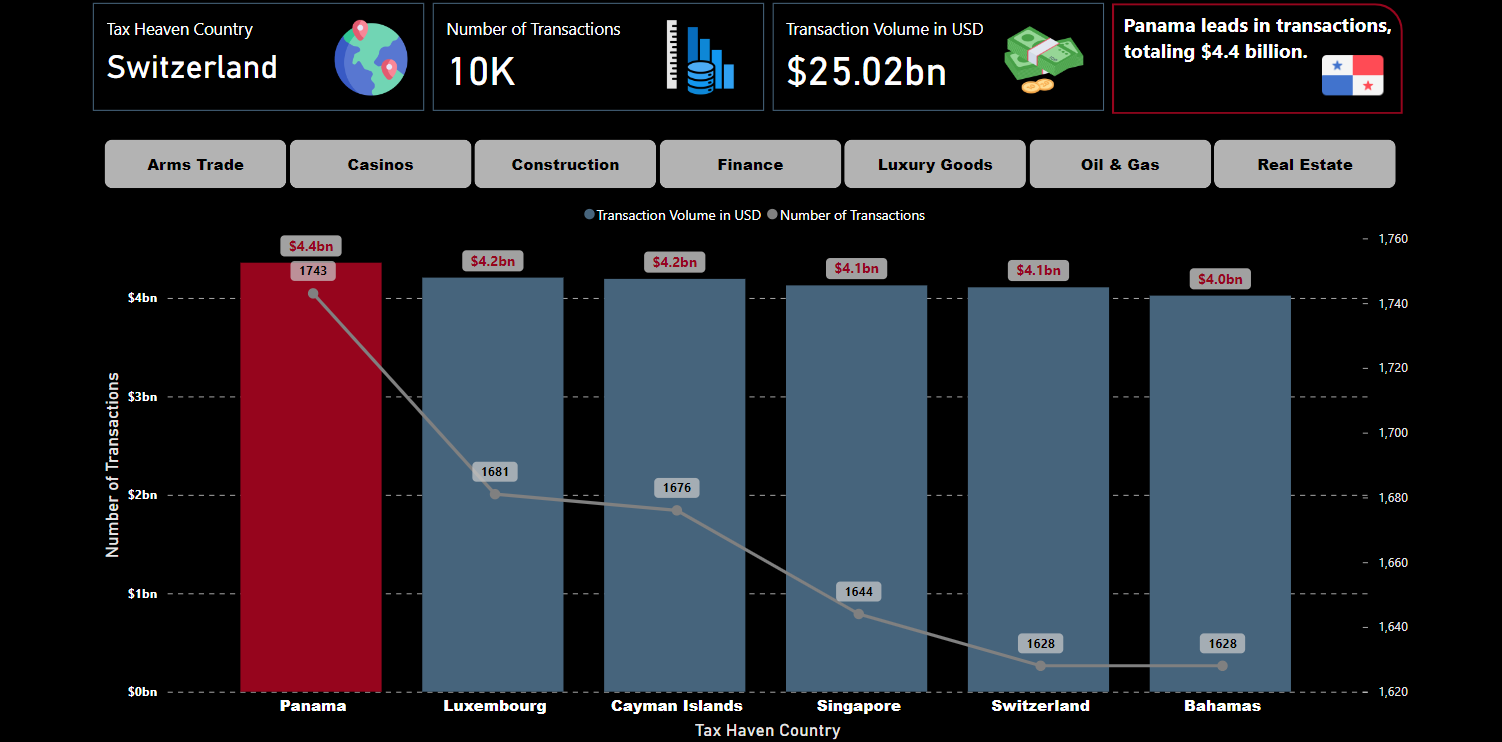

What the dashboard file says about the page in this screenshot:
{"tool":"powerbi","page":{"name":"Tax Haven Transactions: Volume and Insights by Country","canvas":[1280,720],"ordinal":1},"visuals":[{"type":"lineStackedColumnComboChart","title":"Number of Transactions by Tax Haven Country","fields":{"Category":["Big_Black_Money_Dataset.Tax Haven Country"],"Y":["Sum(Big_Black_Money_Dataset.Amount (USD))"],"Y2":["CountNonNull(Big_Black_Money_Dataset.Transaction ID)"]},"box":[10.1,189,1269.6,530.9],"z":0},{"type":"cardVisual","fields":{"Data":["Max(Big_Black_Money_Dataset.Tax Haven Country)","CountNonNull(Big_Black_Money_Dataset.Transaction ID)","Sum(Big_Black_Money_Dataset.Amount (USD))"]},"box":[0,0,986.8,116.9],"z":1000},{"type":"advancedSlicerVisual","fields":{"Values":["Big_Black_Money_Dataset.Industry"]},"box":[12.4,131.9,1256.4,57.2],"z":2000},{"type":"shape","box":[986.8,5.8,279.9,106.8],"z":3000},{"type":"image","box":[1184.5,39,69.3,73.6],"z":4000},{"type":"image","box":[877.2,13,88,93.8],"z":5000},{"type":"image","box":[545.4,13,95.2,89.5],"z":6000},{"type":"image","box":[232.3,15.9,82.2,85.1],"z":7000}]}

Visuals, with their boxes on the page's 1280x720 design canvas (x1, y1, x2, y2). These are canvas units, not pixel positions in the 1502x742 screenshot, which may show the page scaled, cropped or inside an application window:
"Number of Transactions by Tax Haven Country" lineStackedColumnComboChart: [10,189,1280,720]
cardVisual - Max(Big_Black_Money_Dataset.Tax Haven Country) x CountNonNull(Big_Black_Money_Dataset.Transaction ID): [0,0,987,117]
advancedSlicerVisual - Big_Black_Money_Dataset.Industry: [12,132,1269,189]
shape: [987,6,1267,113]
image: [1184,39,1254,113]
image: [877,13,965,107]
image: [545,13,641,102]
image: [232,16,314,101]
